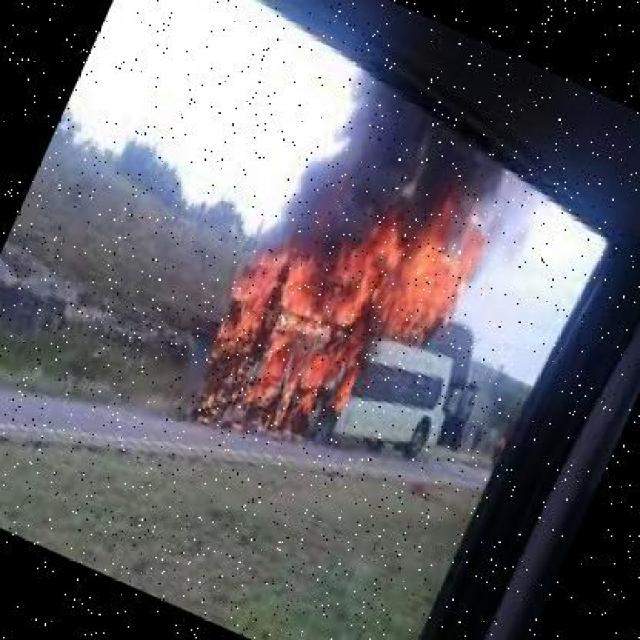fire: (177, 118, 518, 494)
